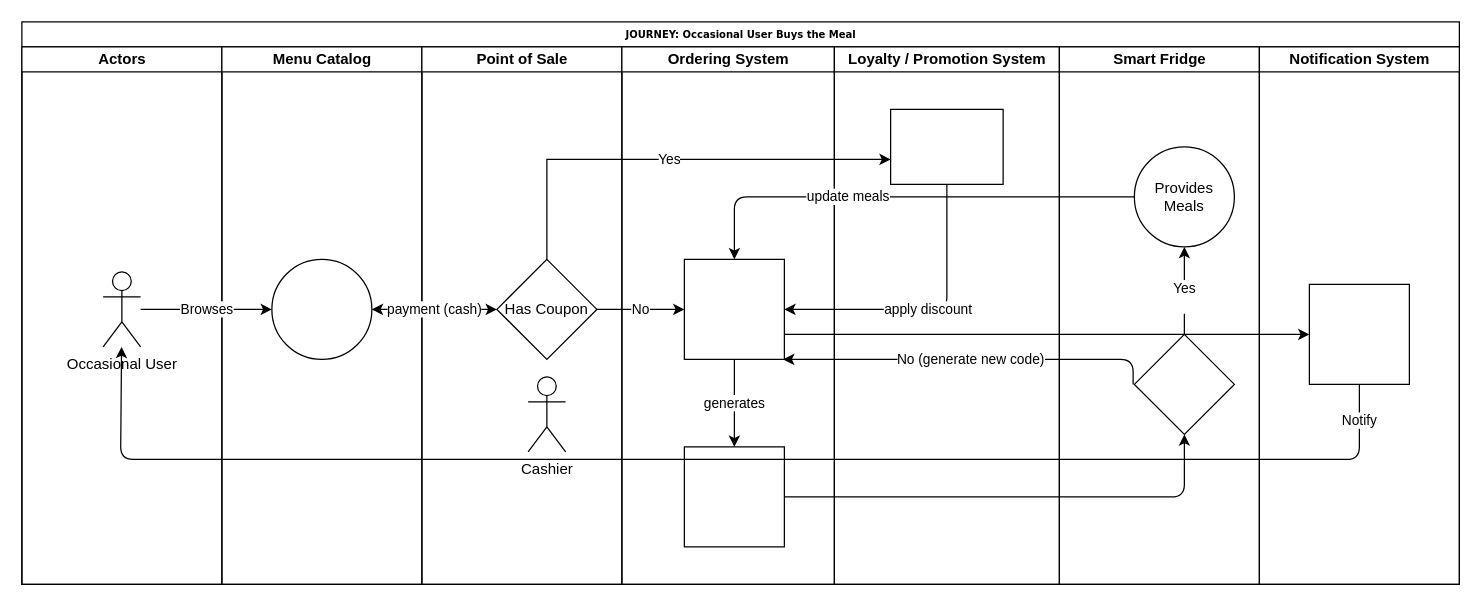
Image size: 1481x606. Some labels were removed from this diagram. The centre of each missing label's shape, as x and y in pixels:
Access Code: the point at 733,496
Discount: the point at 946,146
Make Order: the point at 733,308
Notification: the point at 1358,333
Selects a Meal: the point at 321,308
Valid Code?: the point at 1183,383
